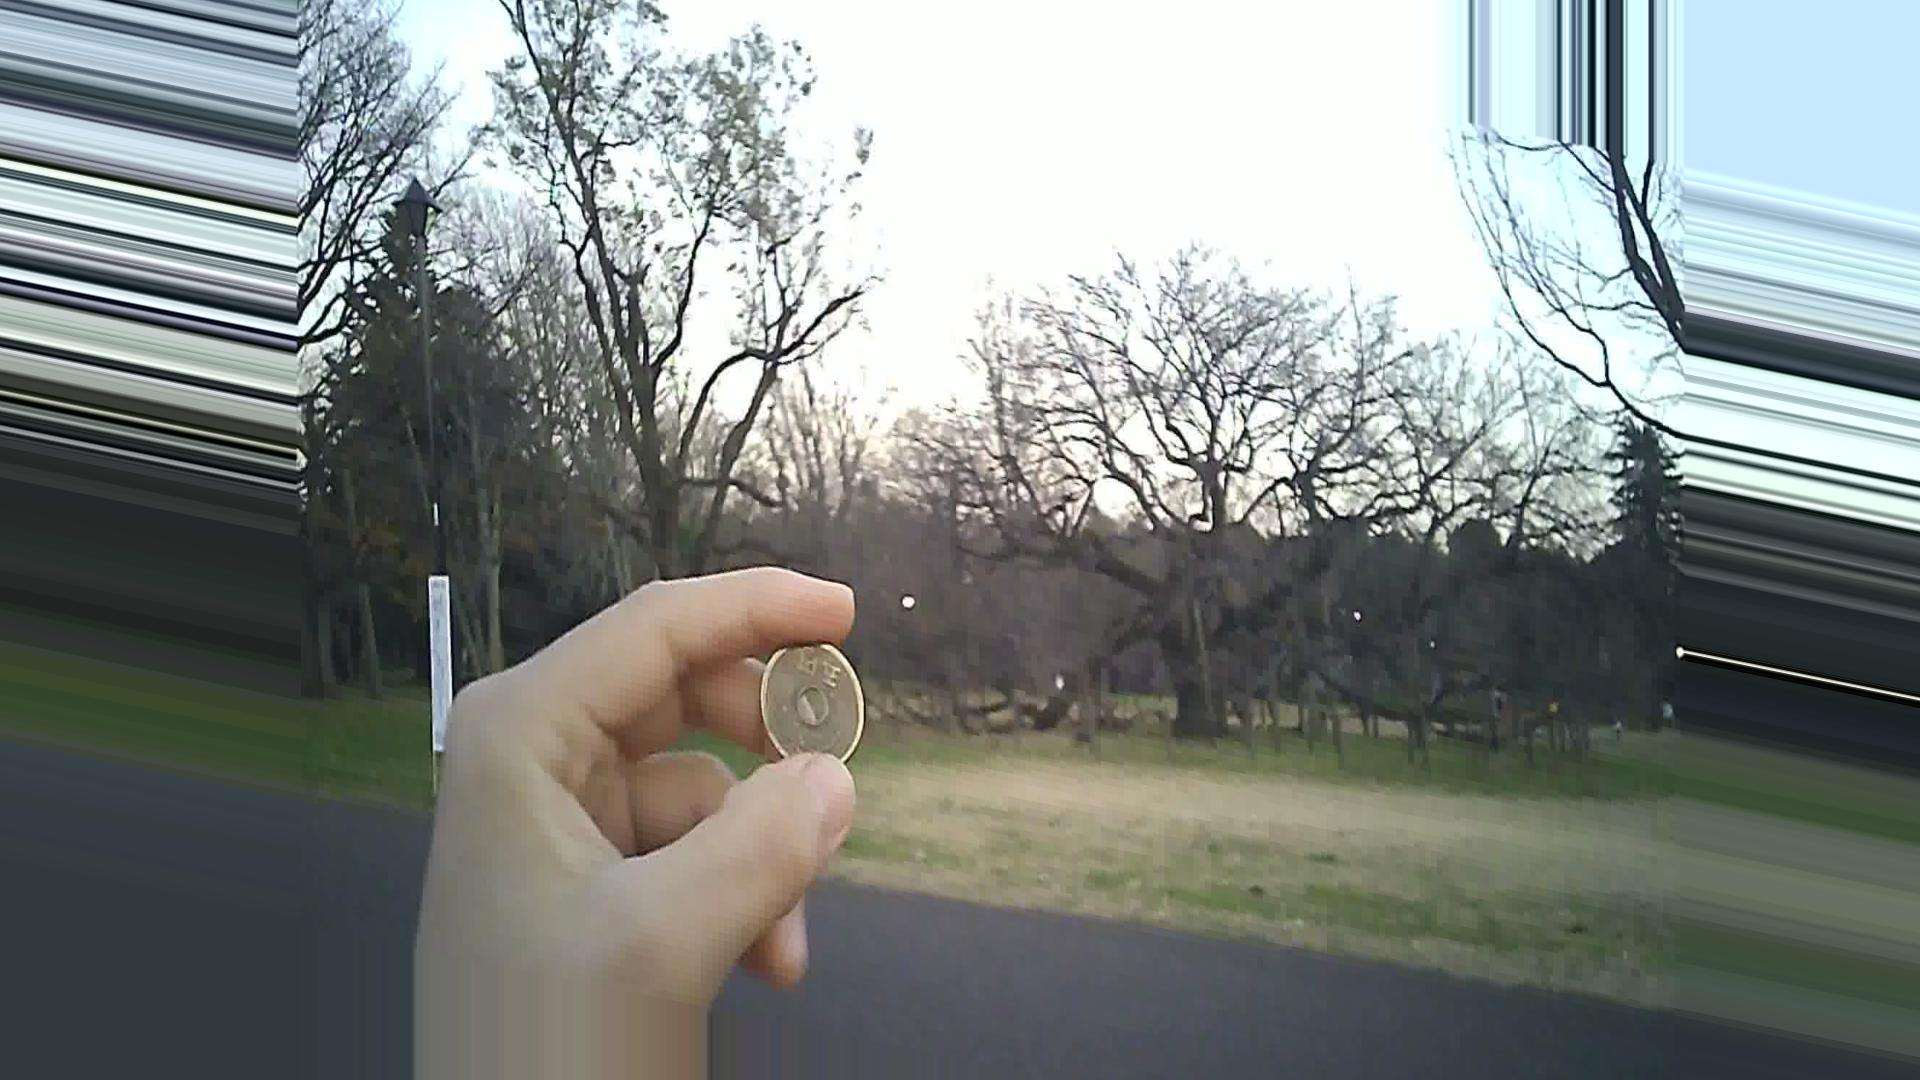5 Yen: (748, 633, 872, 771)
